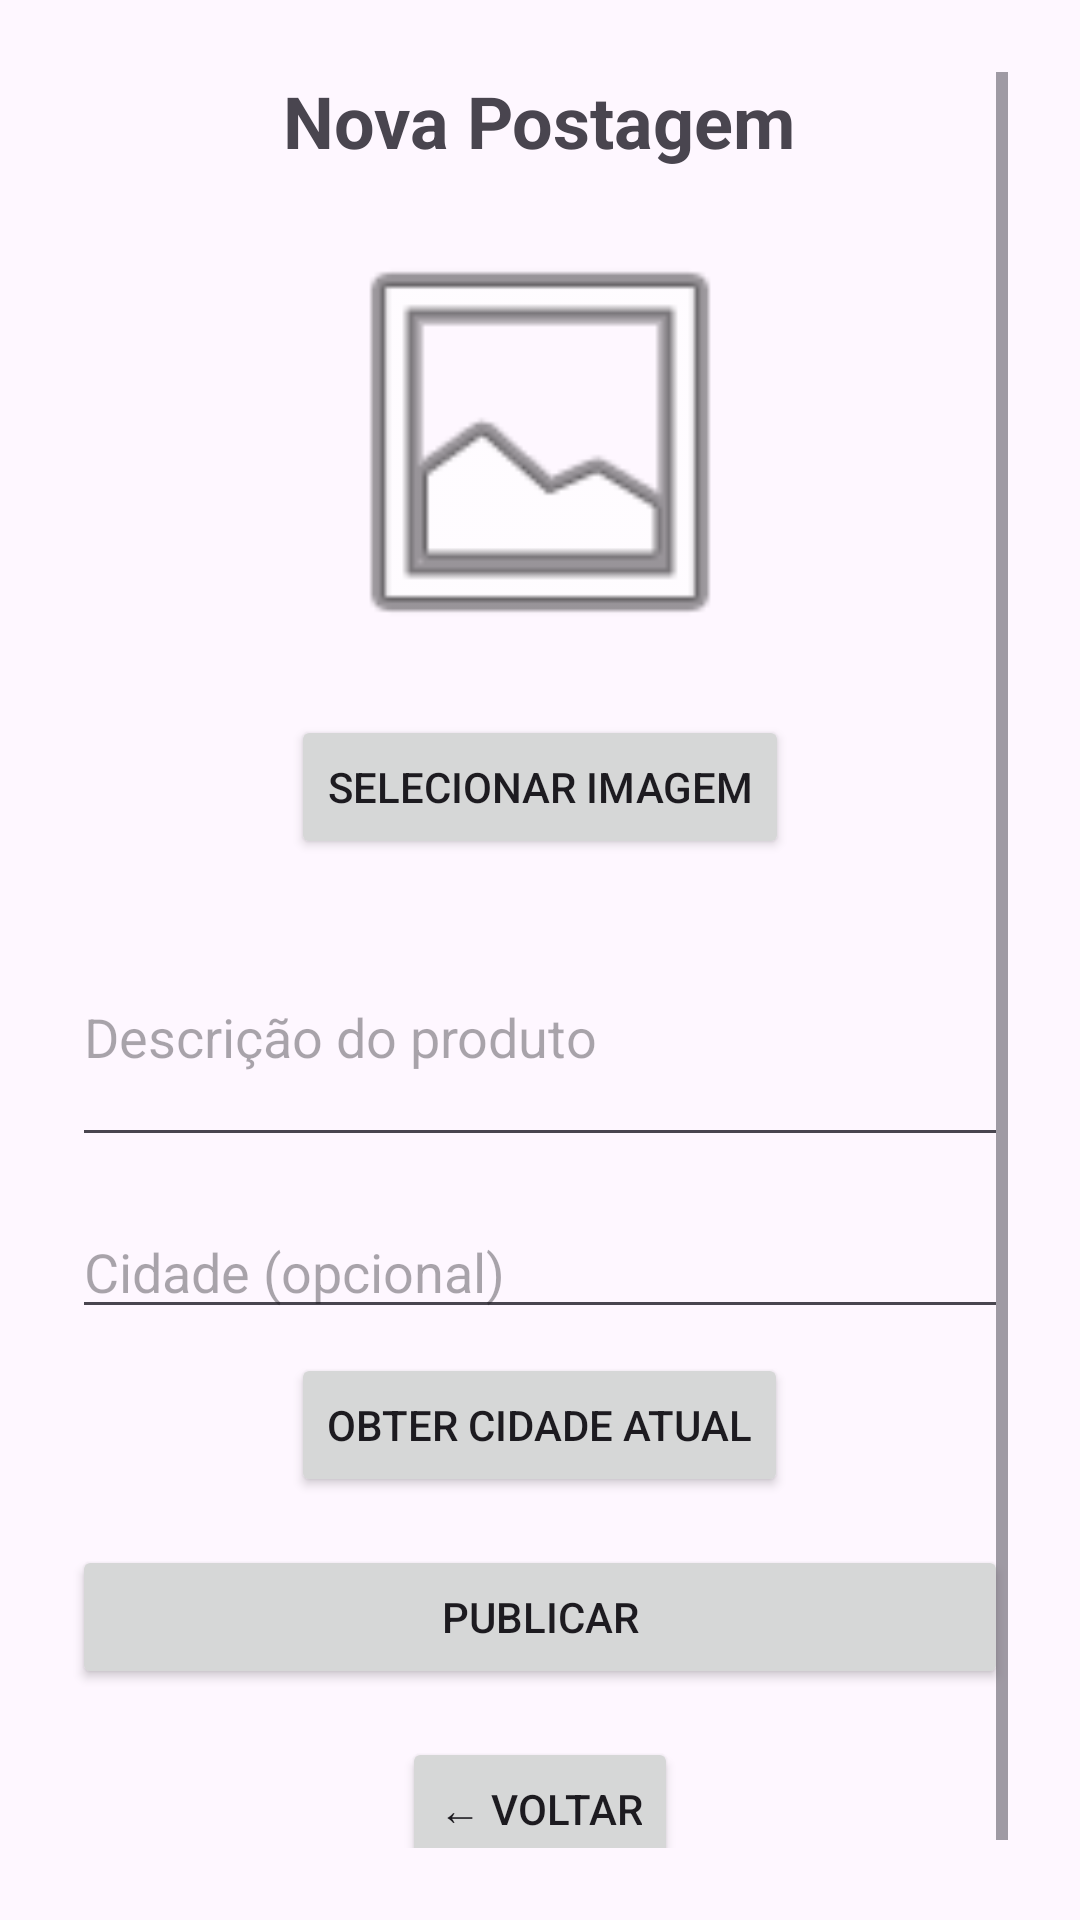

Icon bounding boxes for this 1080w x 1920h phone screenshot, format (x1, y1, x2, y2):
Prévia da imagem: (370, 272, 710, 612)
